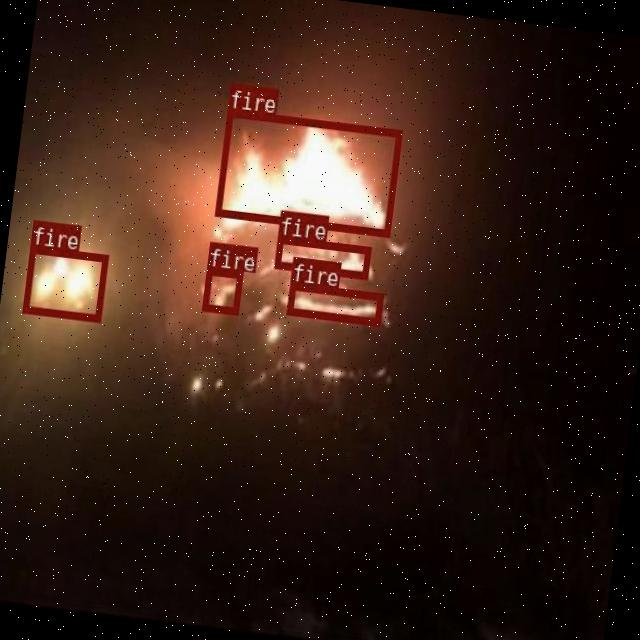fire: (213, 108, 401, 235), (20, 244, 106, 320), (274, 234, 371, 277), (286, 282, 382, 324), (201, 265, 242, 314)
